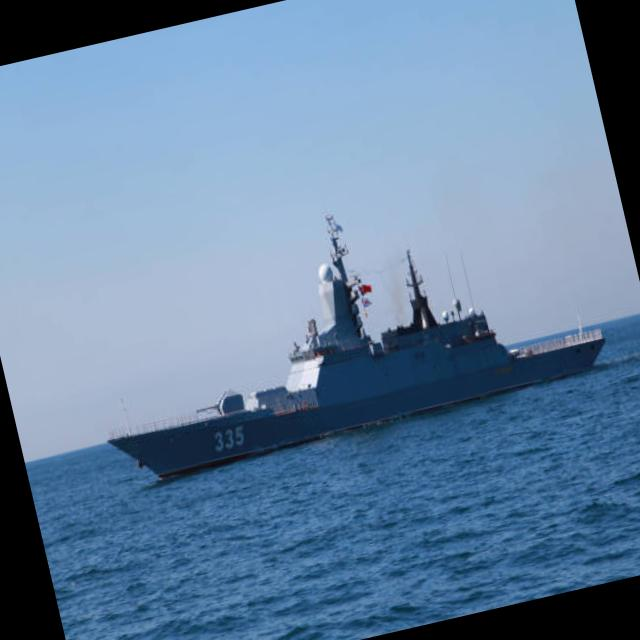Military: (108, 212, 606, 481)
